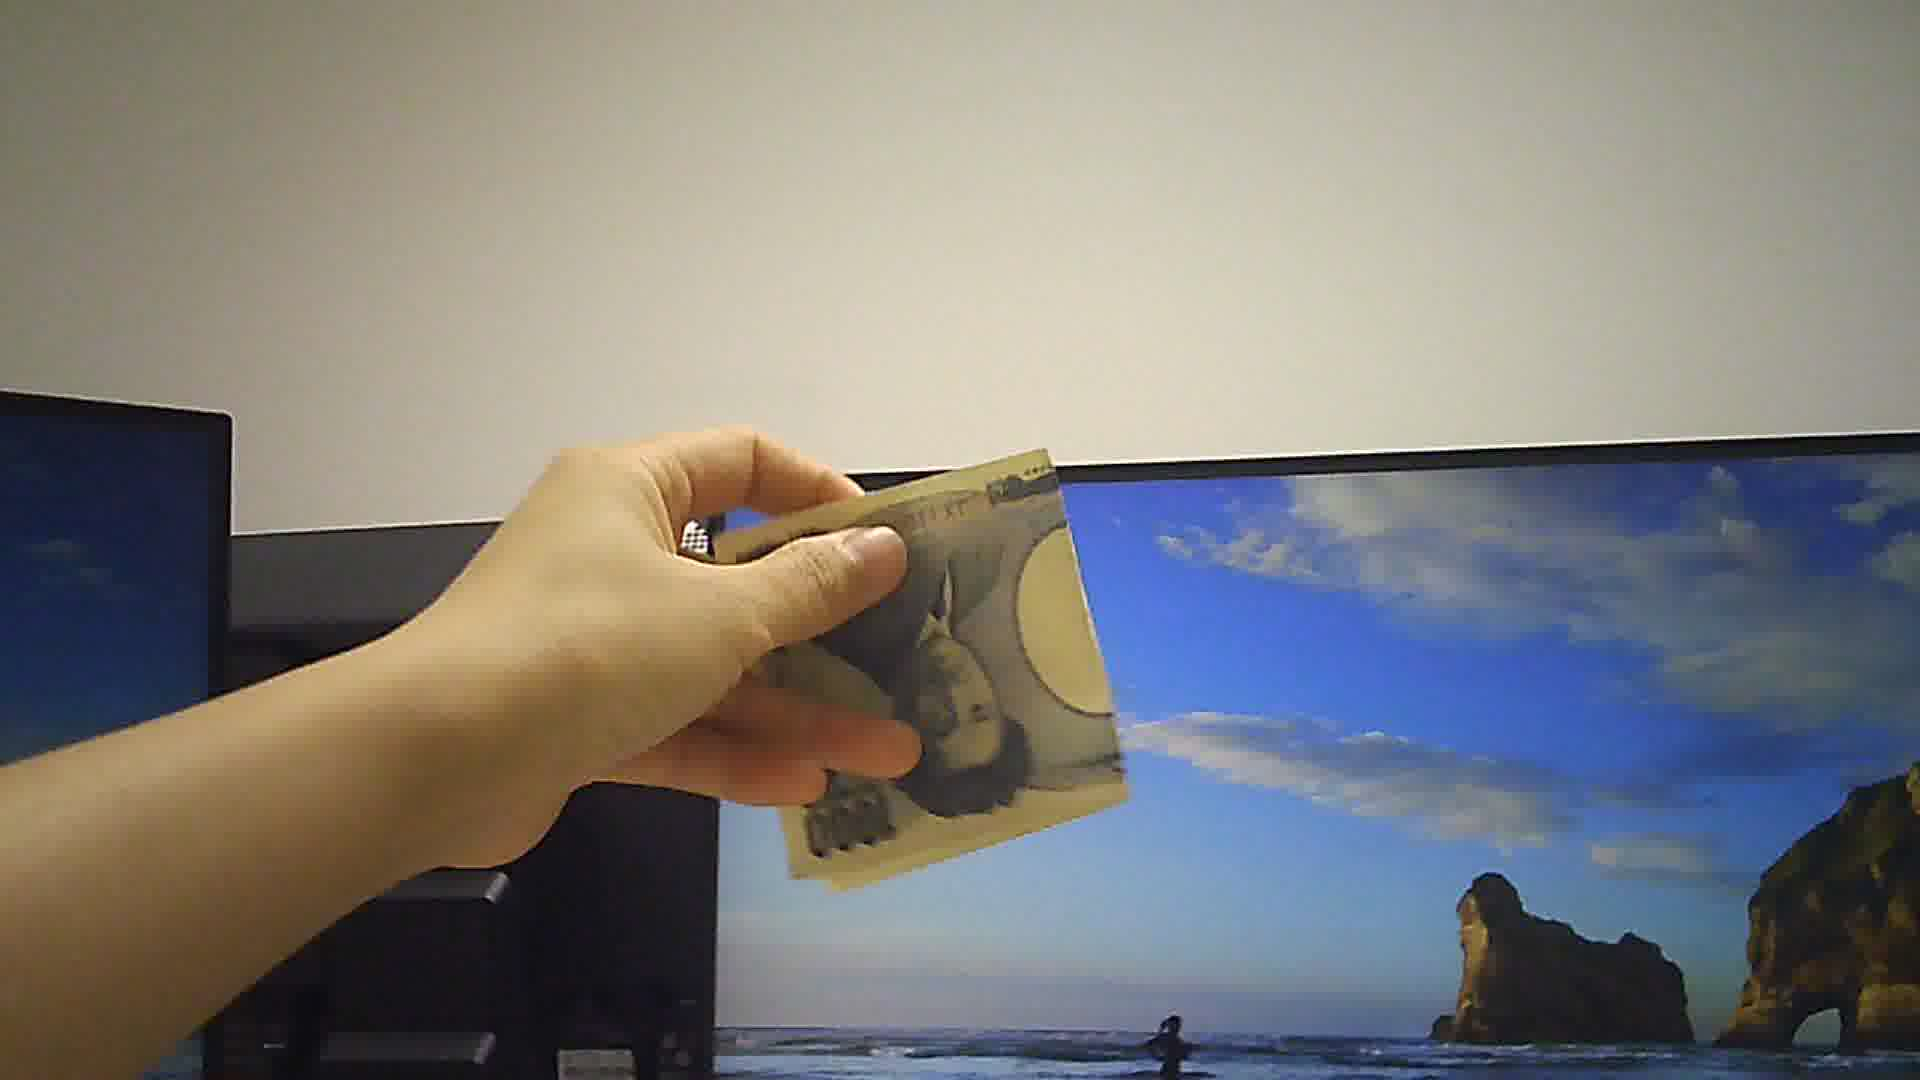1,000 Yen: (700, 443, 1153, 881)
